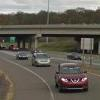Bridge: (2, 13, 95, 46)
